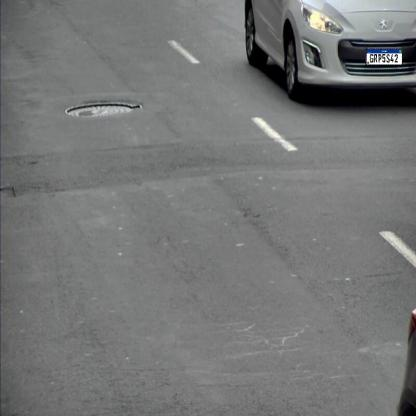PlacaM: (366, 49, 403, 65)
